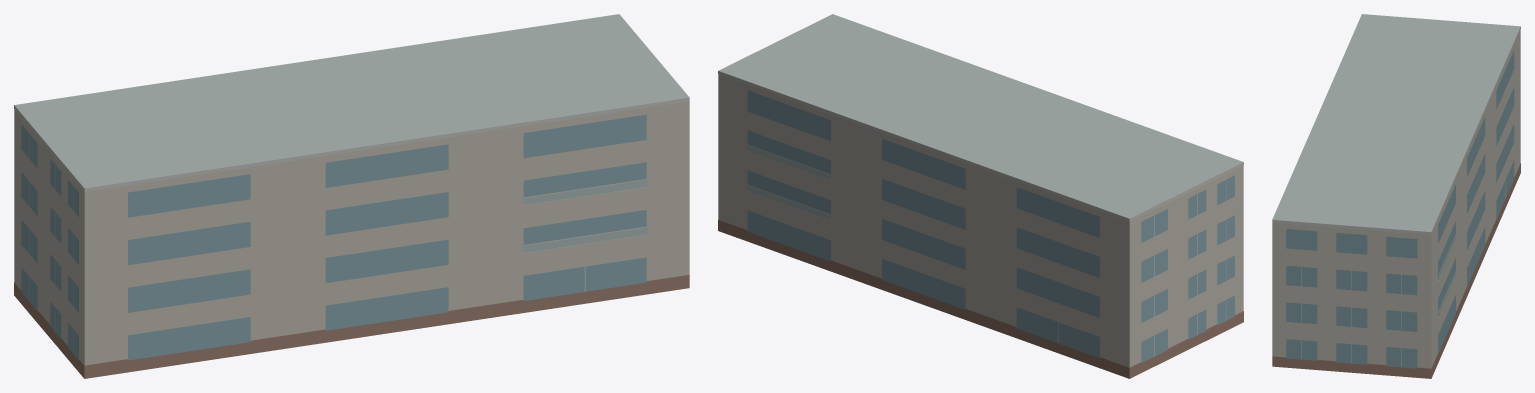
File: residential-1be6213e-ebfe-425b-8acc-f4171eeae8ac.glb
3 renders of one model, left to right at view 1: azimuth 30°, elevation 25°; view 2: azimuth 150°, elevation 25°; view 3: azimuth 270°, elevation 25°, orthographic. The views are drawn at different scales.
Visible parts, largest first — view 1: residential-1be6213e-ebfe-425b-8acc-f4171eeae8ac.tmp; view 2: residential-1be6213e-ebfe-425b-8acc-f4171eeae8ac.tmp; view 3: residential-1be6213e-ebfe-425b-8acc-f4171eeae8ac.tmp.
Part boxes in pixels (x1,y1,x2,y2): residential-1be6213e-ebfe-425b-8acc-f4171eeae8ac.tmp: (14,14,689,378); residential-1be6213e-ebfe-425b-8acc-f4171eeae8ac.tmp: (718,14,1243,378); residential-1be6213e-ebfe-425b-8acc-f4171eeae8ac.tmp: (1272,14,1520,378).
Bounding box in the file's own units: 38.89 × 12.2 × 18.74.
